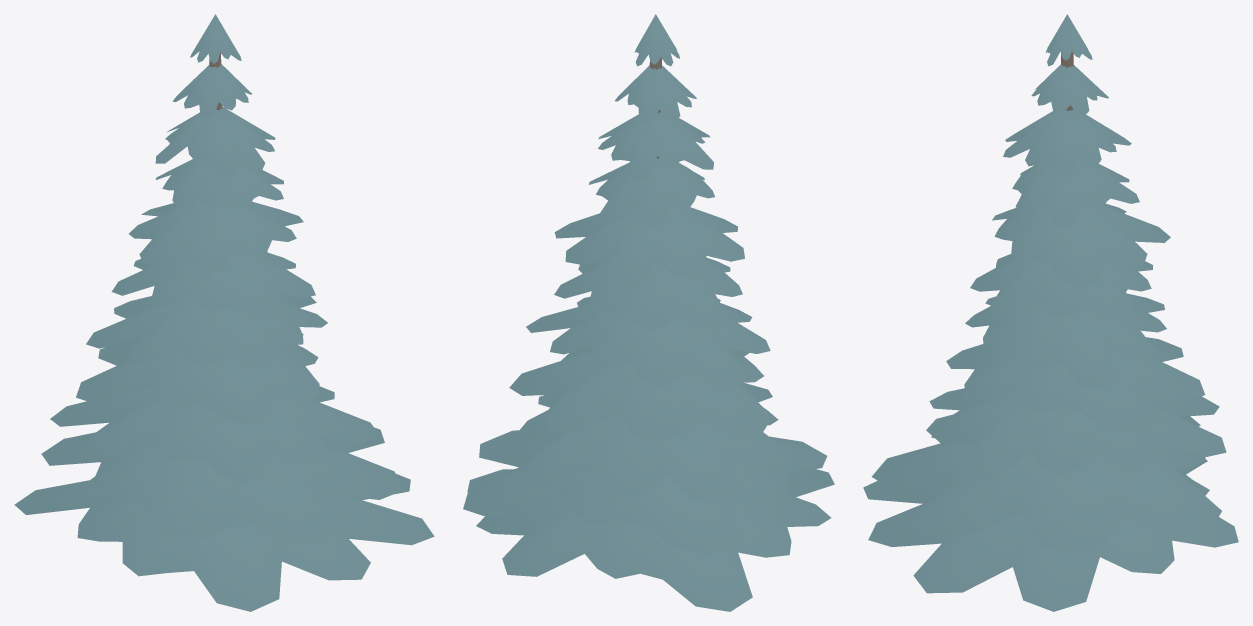
File: Blender_BlueSpruce_2.glb
3 views of the same model, side by side, from view 1: azimuth 30°, elevation 25°; view 2: azimuth 150°, elevation 25°; view 3: azimuth 270°, elevation 25° (orthographic). The views are drawn at different scales.
Visible parts, largest first — view 1: Blender_BlueSpruce_2; view 2: Blender_BlueSpruce_2; view 3: Blender_BlueSpruce_2.
Part boxes in pixels (x1,y1,x2,y2): Blender_BlueSpruce_2: [14, 14, 434, 611]; Blender_BlueSpruce_2: [463, 14, 834, 611]; Blender_BlueSpruce_2: [863, 14, 1238, 611].
Bounding box in the file's own units: 9.49 × 13.91 × 9.35.
